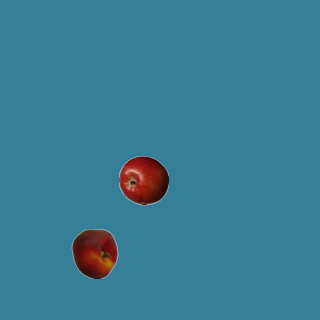Apple Braeburn: (118, 155, 168, 205)
Nectarine Flat: (69, 228, 119, 278)
